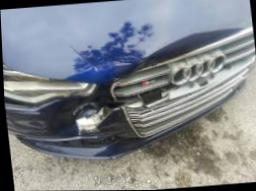Bonnet: (35, 10, 250, 83)
Bumper: (4, 84, 207, 160)
